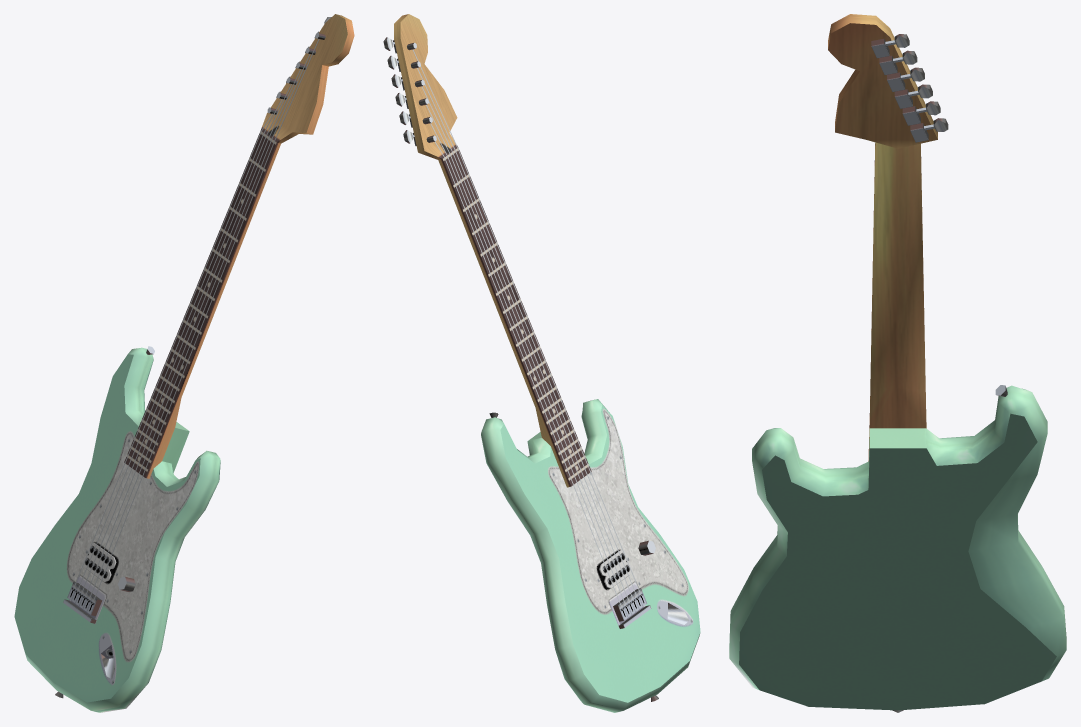
The model's file is strat.obj.
3 views of the same model, side by side, from view 1: azimuth 30°, elevation 25°; view 2: azimuth 150°, elevation 25°; view 3: azimuth 270°, elevation 25° (orthographic). The views are drawn at different scales.
Parts seen in each view (by area): view 1: body; view 2: body; view 3: body.
Part boxes in pixels (x1,y1,x2,y2): body: (14,14,354,712); body: (383,14,700,712); body: (729,14,1066,712).
Size of the model in its own units: 1.26 by 2.69 by 0.9322.
Materials: 1 (1 with a texture image).
